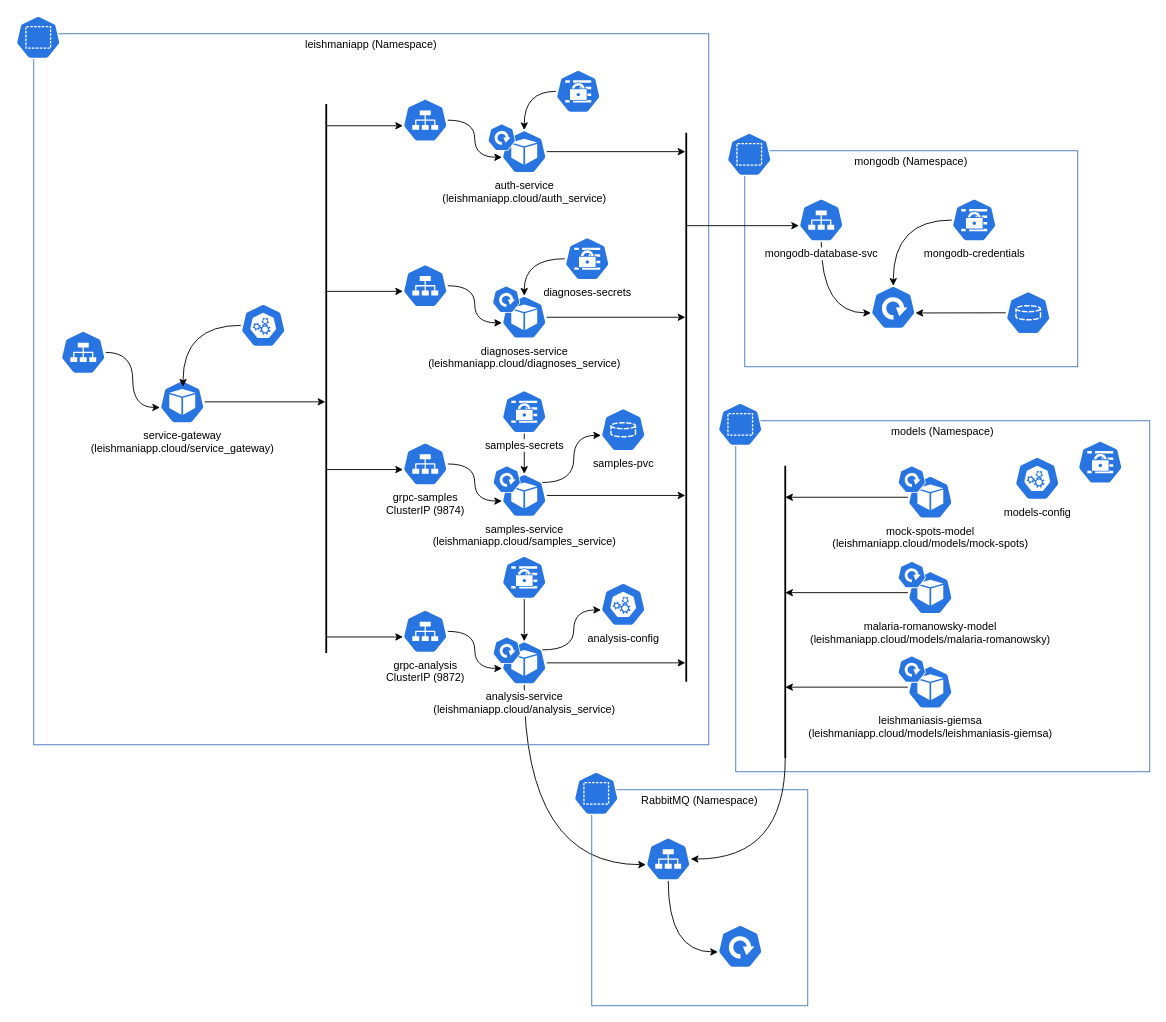
Image size: 1166x1022. Some labels were removed from this diagram. The shapes that lost their labels are listed below. From the top down, each one's centre as x and y in pixels, then its label:
the point at 578,91: auth-secrets
the point at 425,120: grpc-auth ClusterIP (9875)
the point at 425,285: grpc-diagnoses ClusterIP (9873)
the point at 263,325: gateway-config (Contains config.yaml)
the point at 893,307: mongodb-kubernetes-operator
the point at 1028,312: mongodb-pvc
the point at 83,352: gateway-svc NodePort (31080:9871)
the point at 1100,462: model-secrets
the point at 524,577: analysis-secrets
the point at 668,859: RabbitMQ-cluster
the point at 740,946: RabbitMQ-operator
